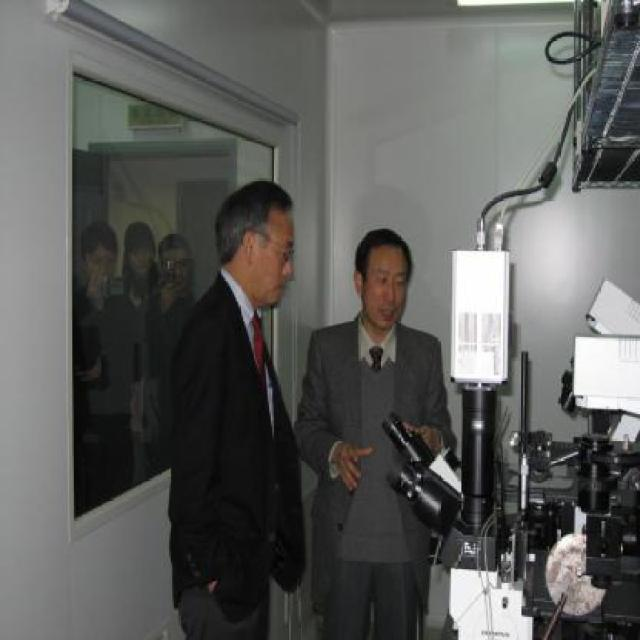Person: (162, 160, 312, 631), (301, 210, 445, 639)
